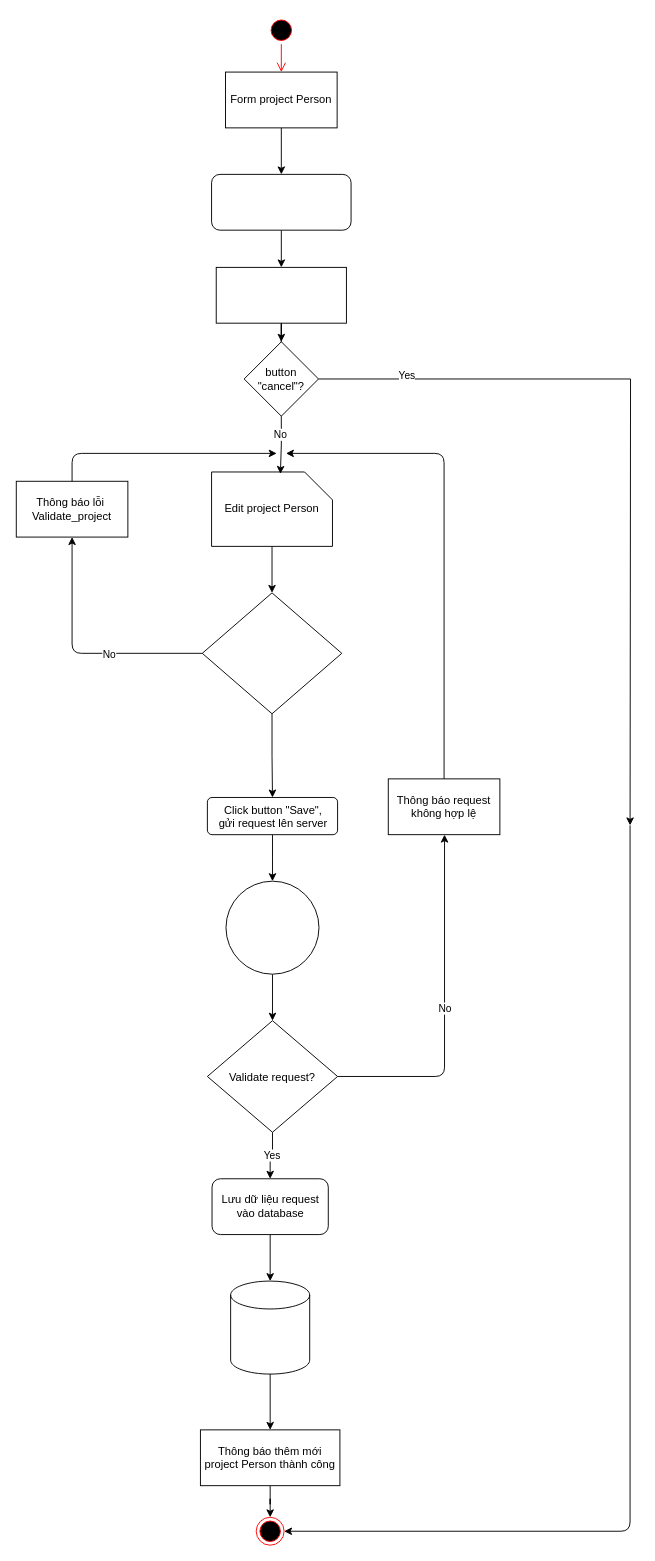
This 655x1561 diagram has some shape labels left out. The shapes that lost their labels are listed below. From the top down, each one's centre as x and y in pixels, then its label:
pixel 281 201: Click button "edit project"
pixel 280 294: Form edit project Person
pixel 271 653: Is Validate?
pixel 272 927: Server
pixel 270 1327: db_Person
